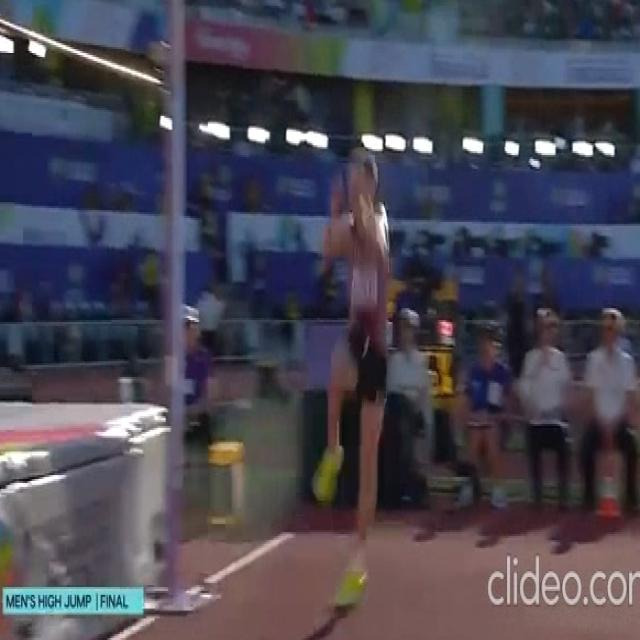jump: (312, 149, 390, 606)
